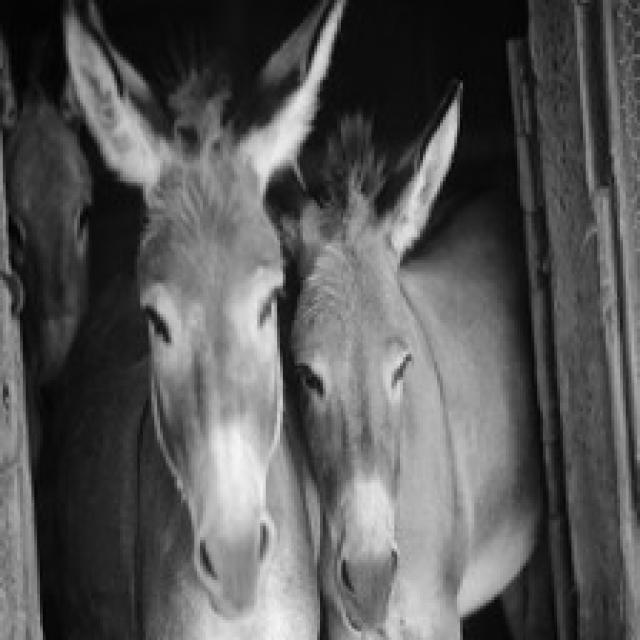Donkey: (55, 0, 352, 637), (263, 74, 543, 637), (0, 0, 49, 637), (0, 83, 94, 386)
